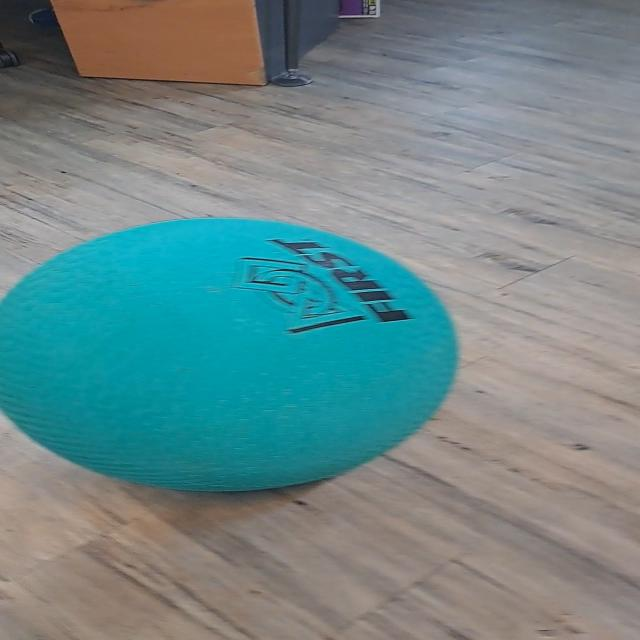ALGAE: (1, 215, 460, 493)
